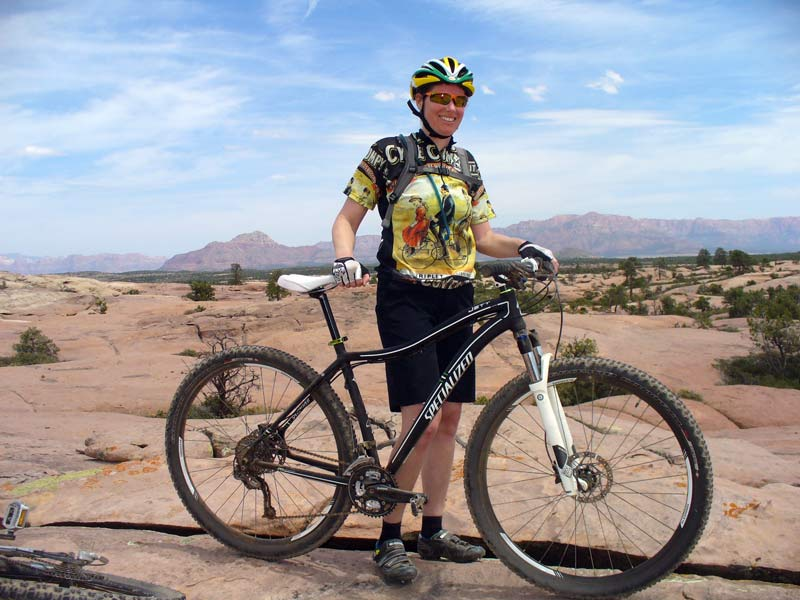helmet: (407, 54, 476, 96)
